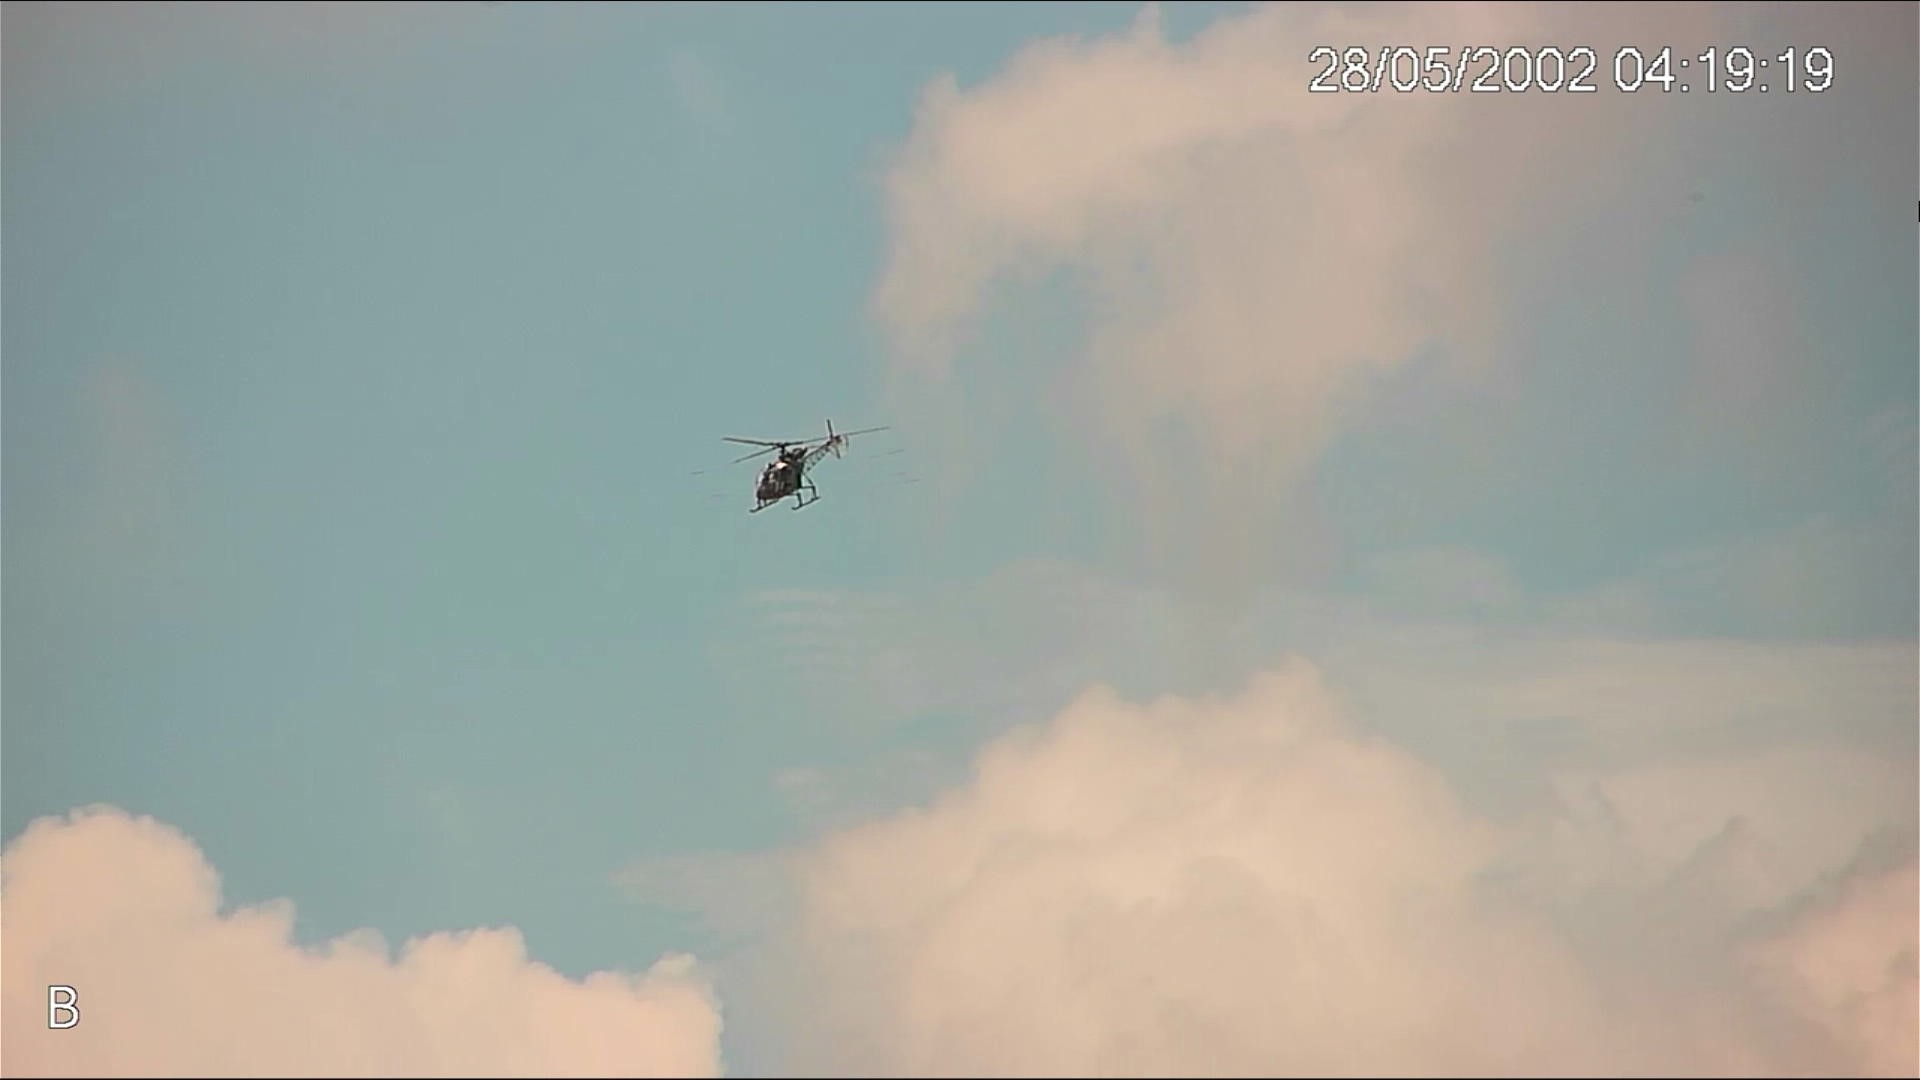SU_30: (732, 426, 858, 518)
